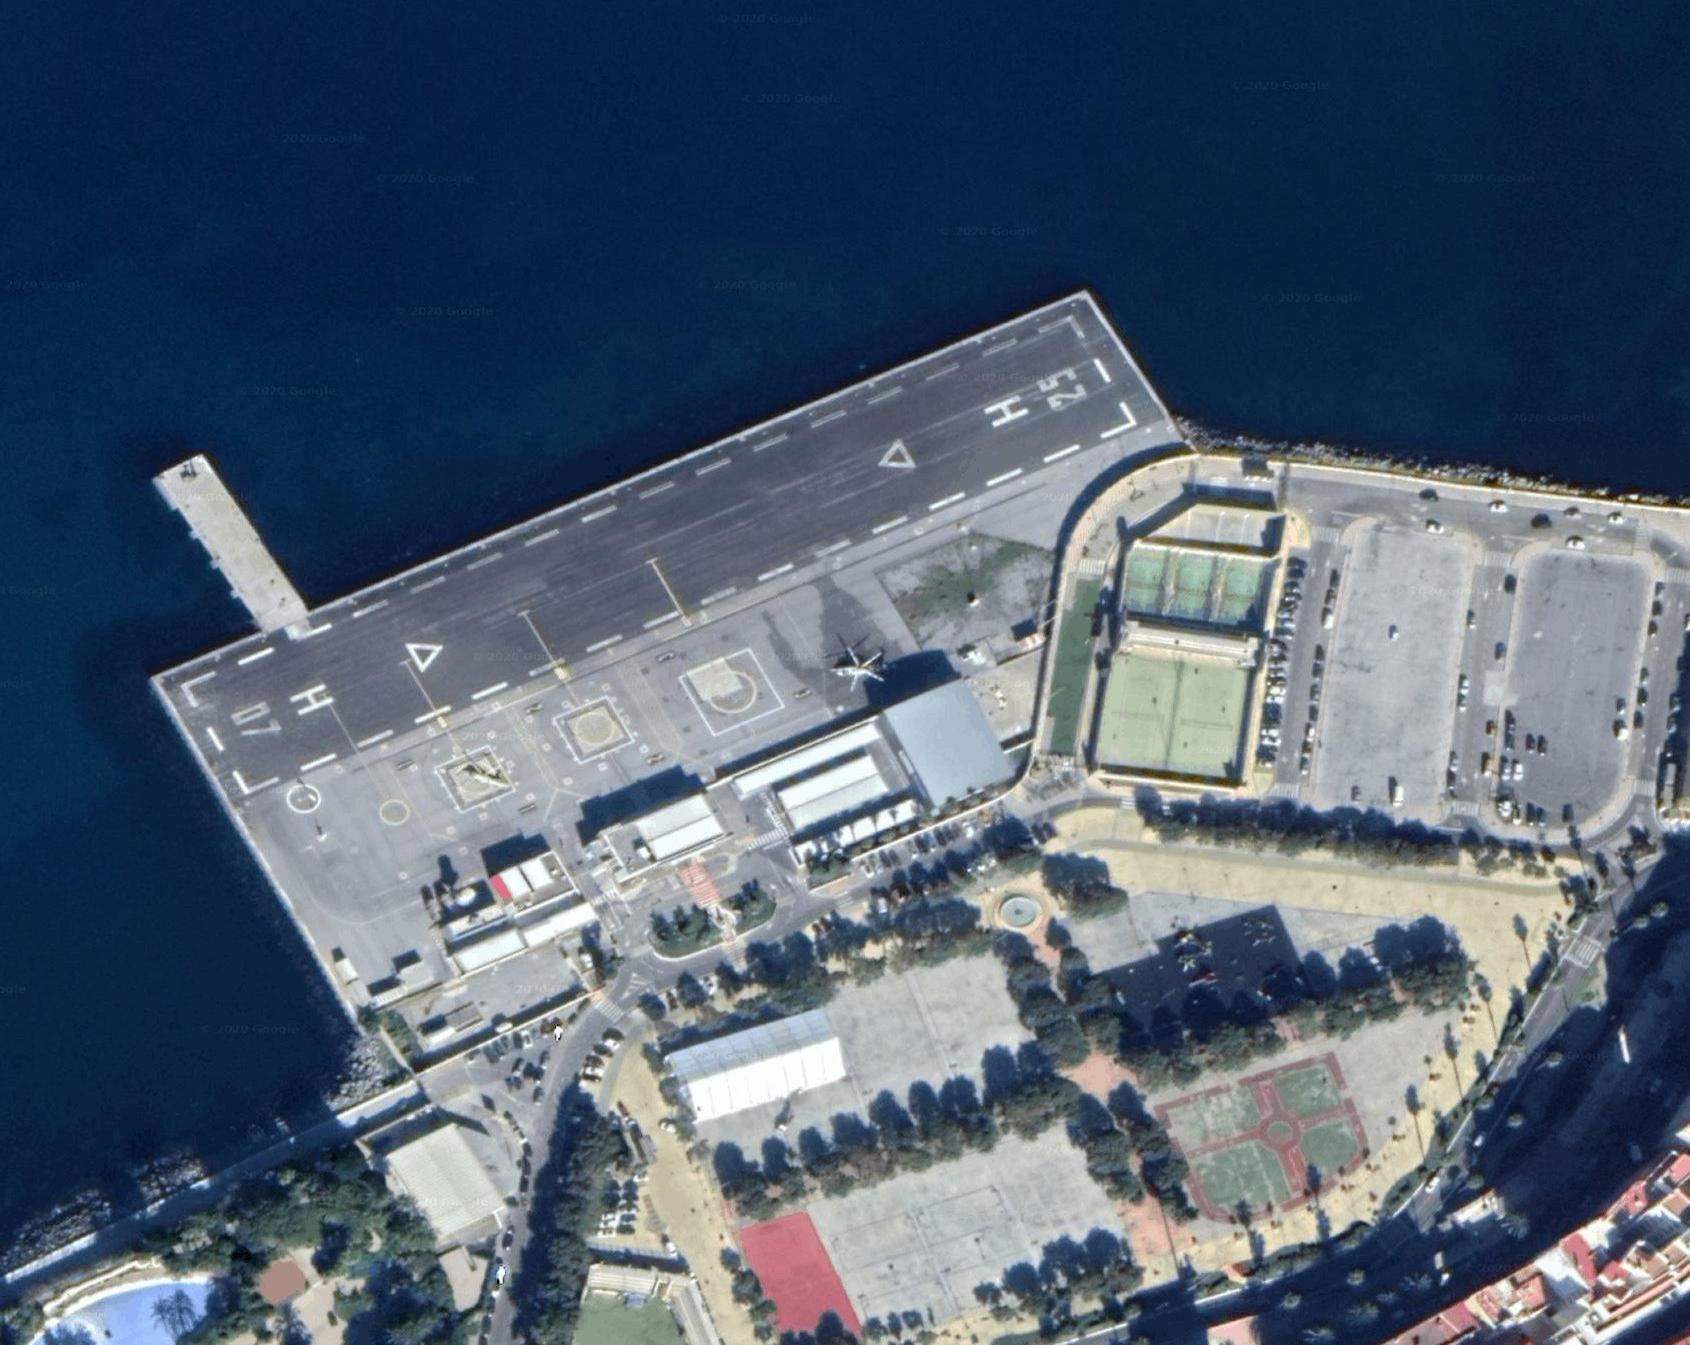harbor: (154, 452, 311, 637)
helicopter: (820, 630, 894, 708), (444, 747, 519, 802)
